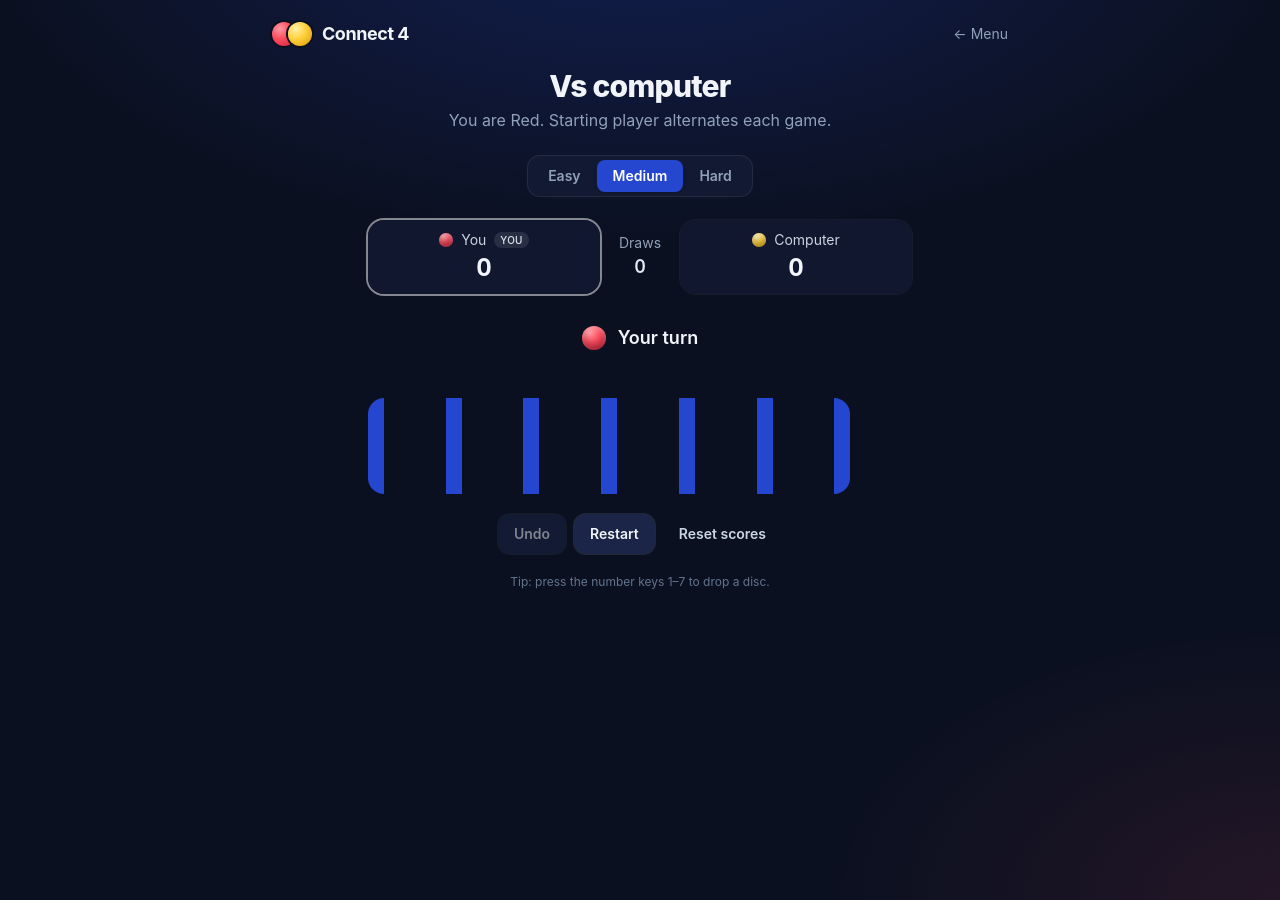
Scenario: vs computer › undo rolls back both the human move and the computer reply
Step 1. Click the button named "Drop disc in column 4" → (640, 438), box [601, 382, 679, 494]
Wait 1000 ms
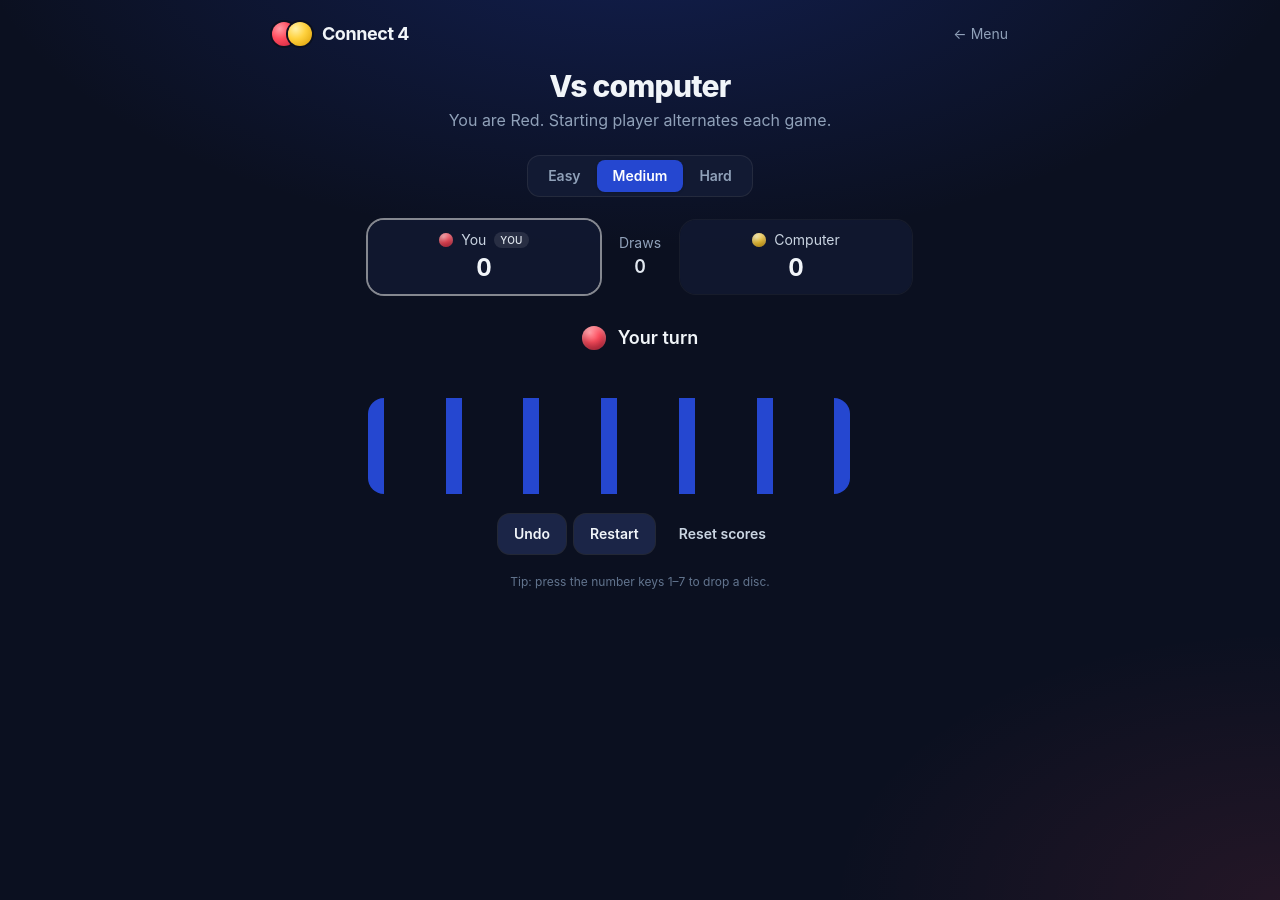
Expected: the button "Undo" is enabled
Step 2. Click the button "Undo" → (532, 534), box [498, 514, 566, 554]
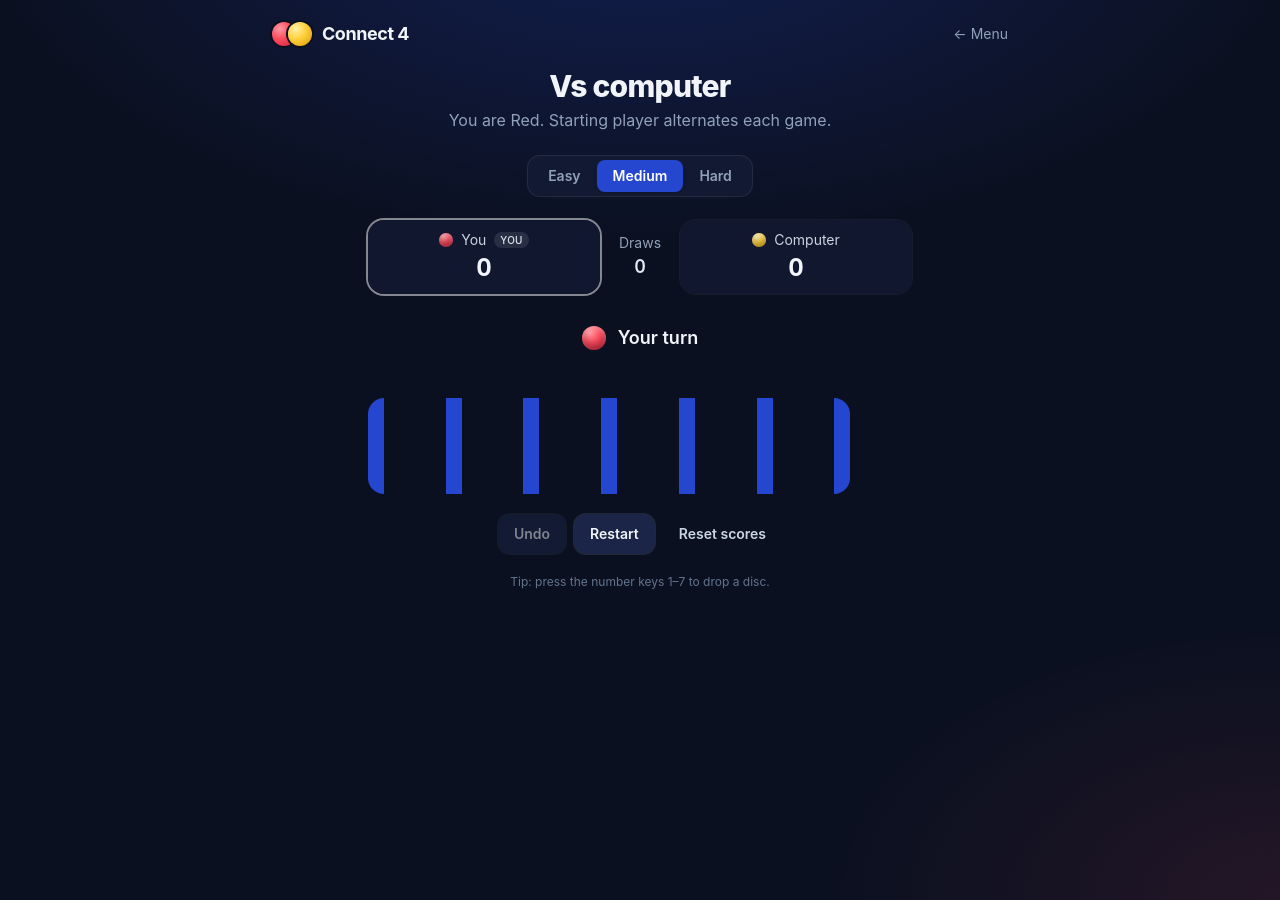
Expected: the message reads "Your turn", [618, 327, 698, 348]
Expected: the button "Undo" is disabled, [498, 514, 566, 554]
